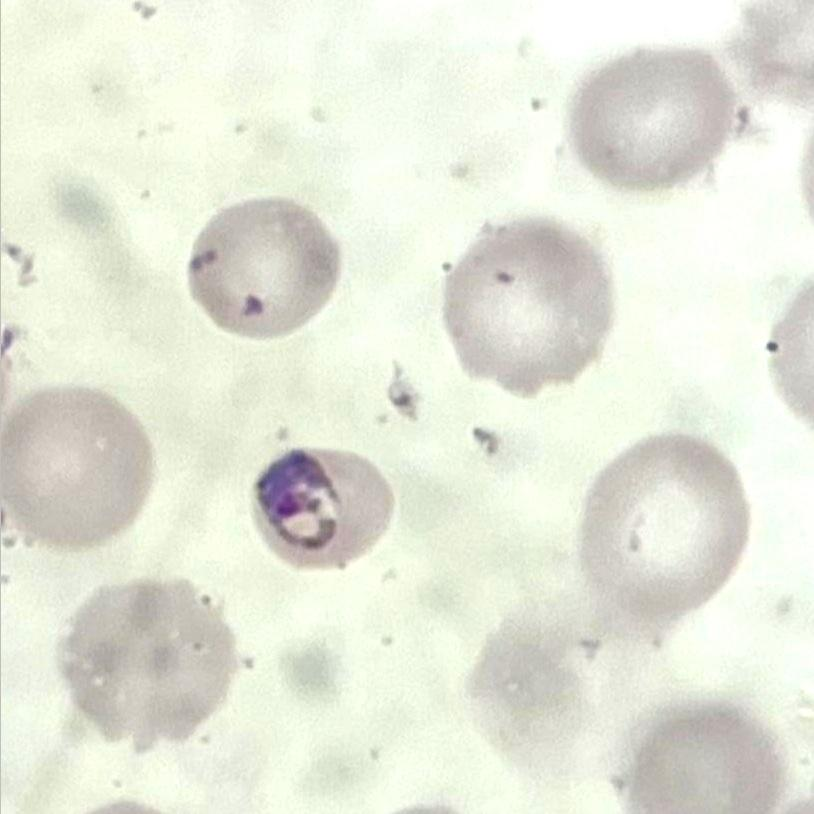Infected: (253, 445, 397, 568)
Uninfected: (580, 432, 751, 624), (58, 579, 235, 752), (440, 219, 610, 387), (0, 382, 157, 548), (570, 44, 734, 193), (188, 194, 345, 341), (622, 692, 785, 814)
